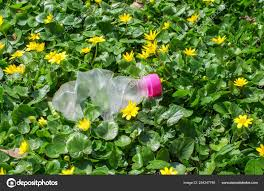plastic_bottle: (55, 68, 165, 123)
